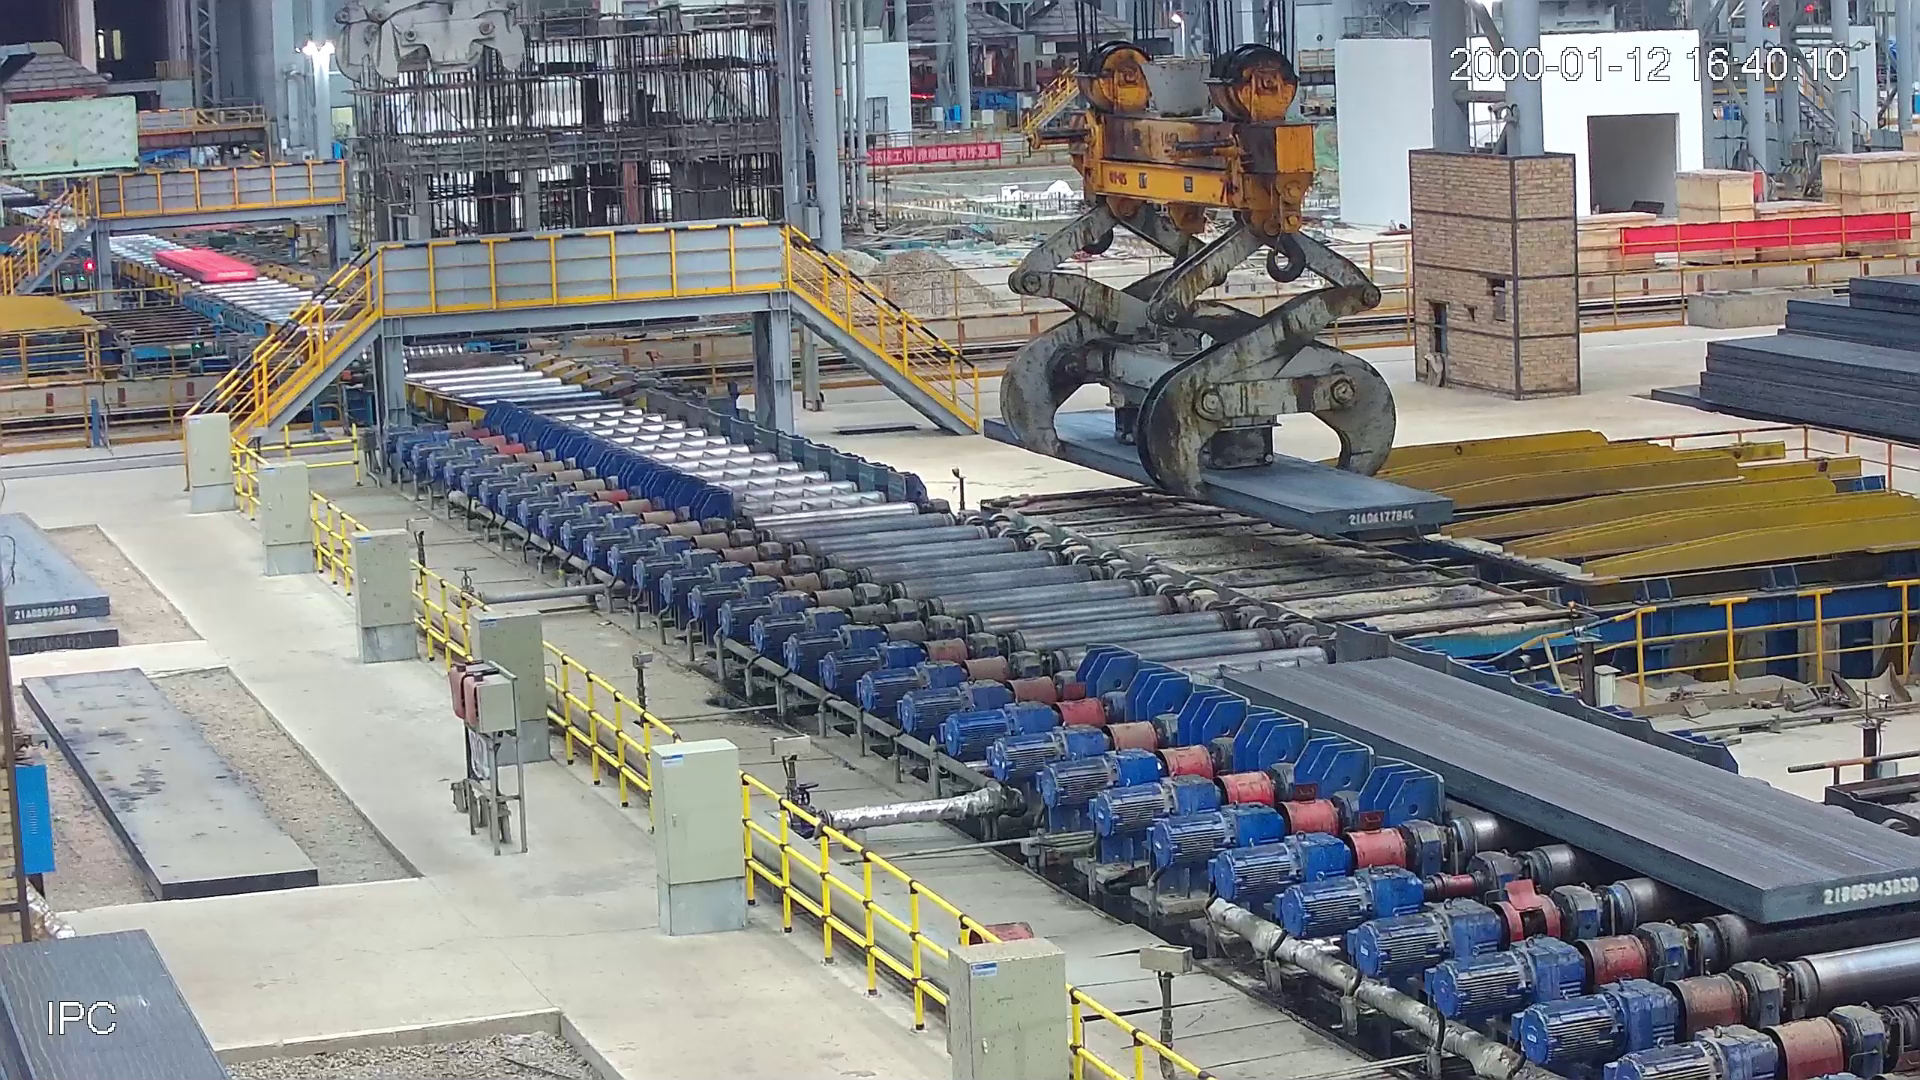craneandslab: (978, 44, 1452, 538)
slab: (1232, 655, 1920, 936), (154, 251, 257, 284)
